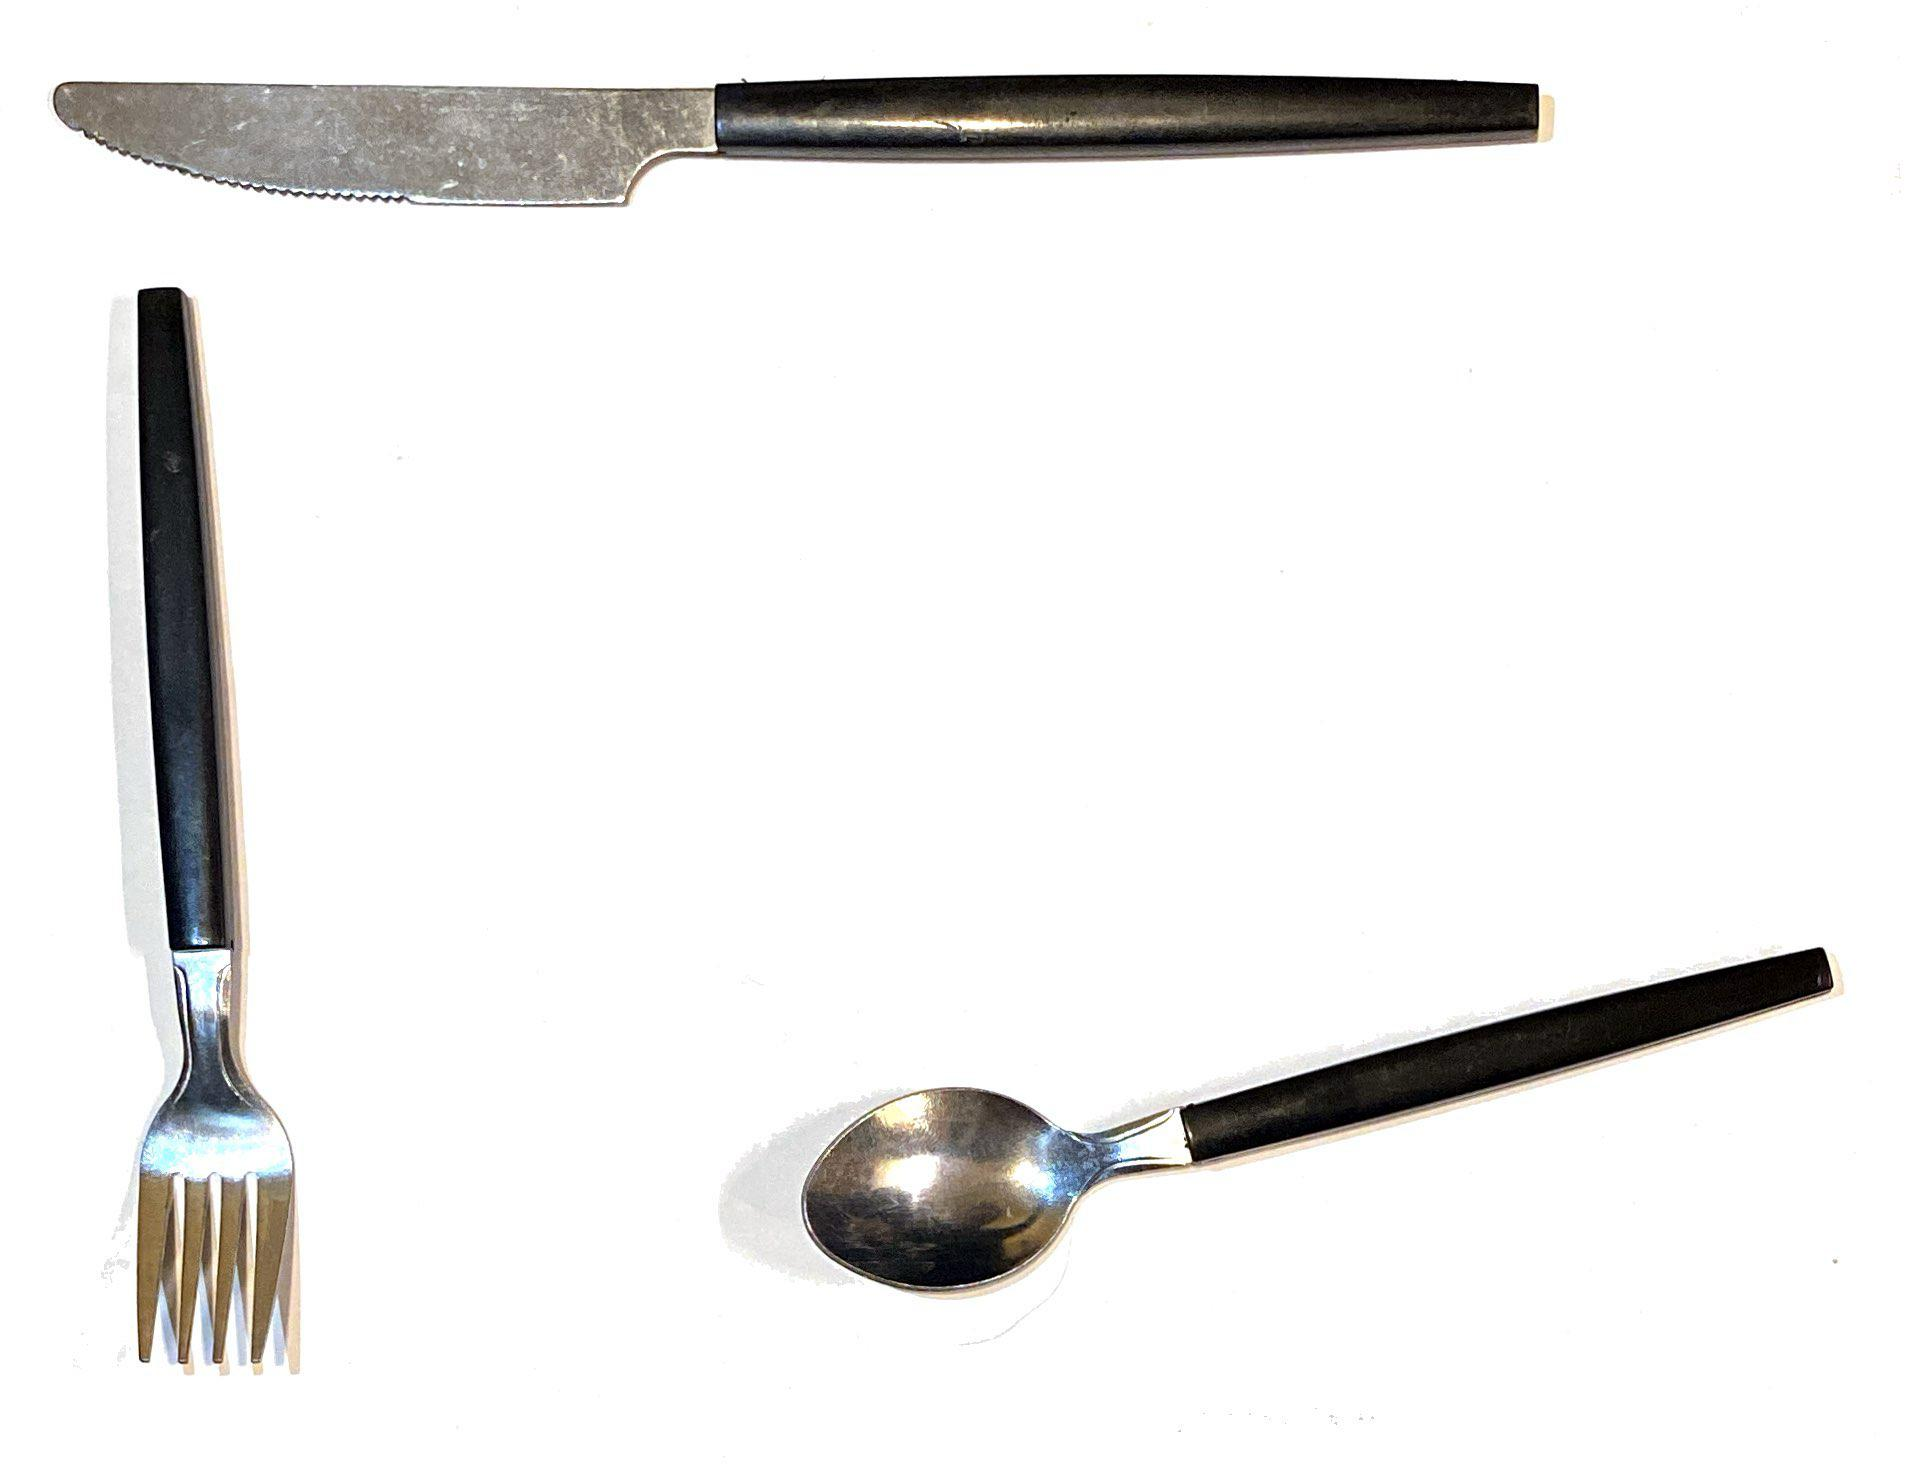Fork: (120, 269, 336, 1403)
Knife: (35, 52, 1600, 263)
Spoon: (782, 916, 1858, 1337)
